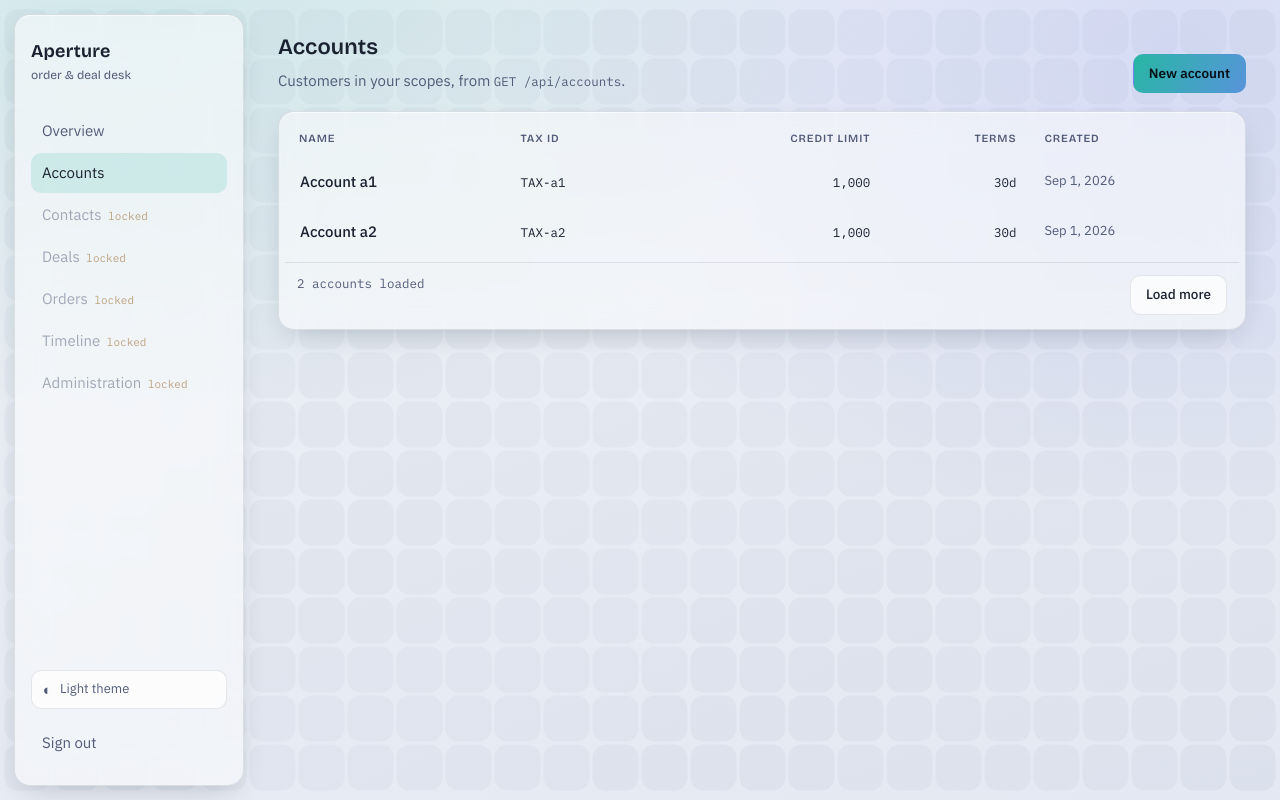
Test: Accounts grid › Given a grid with a NextCursor, when "load more" is used, then the next page appends and the cursor advances; a null cursor hides the control (edge 11)
Expected: the number of rows is 3, [285, 120, 1239, 156]; [285, 158, 1239, 206]; [285, 208, 1239, 256]
Click the button "Load more" at (1178, 295), box [1130, 275, 1227, 315]
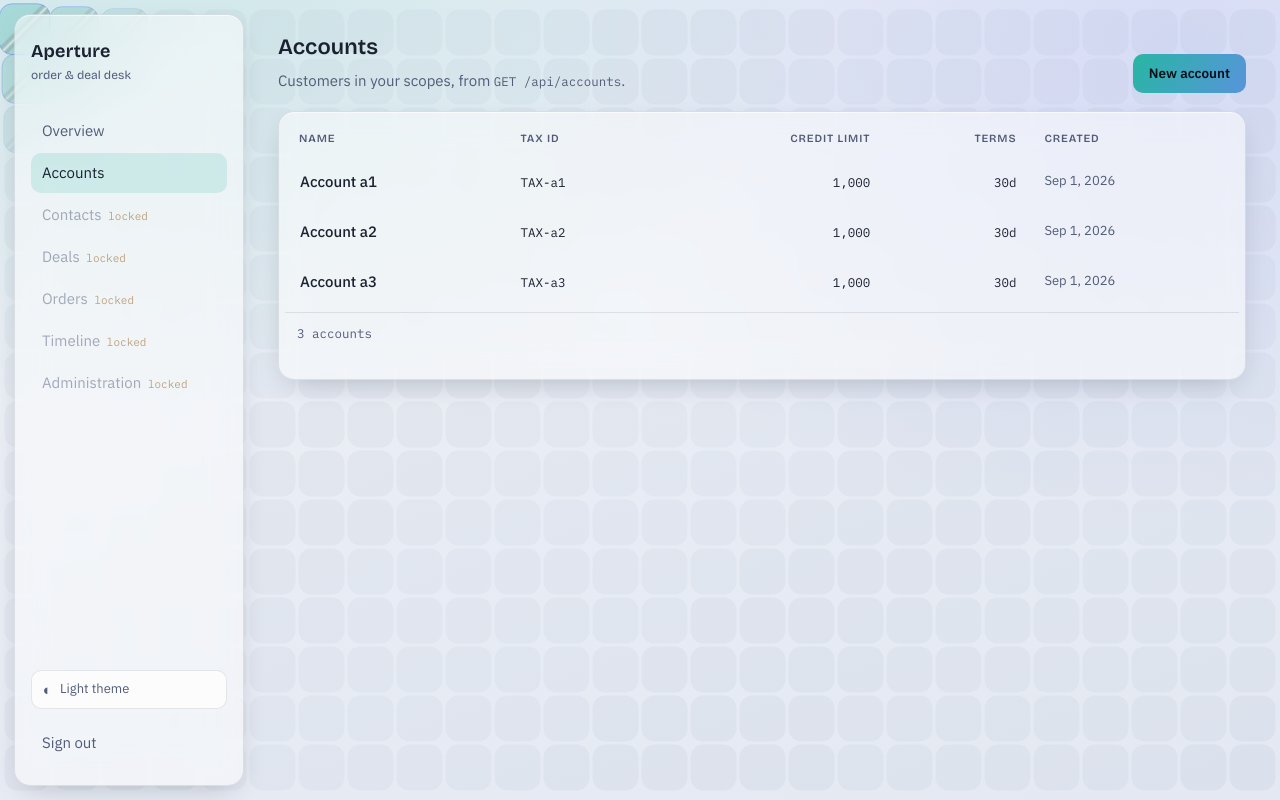
Now the number of rows is 4, box [285, 120, 1239, 156]; [285, 158, 1239, 206]; [285, 208, 1239, 256]; [285, 258, 1239, 306]
Now the text "Account a3" is shown, box [285, 258, 506, 306]
Now the button "Load more" is gone
